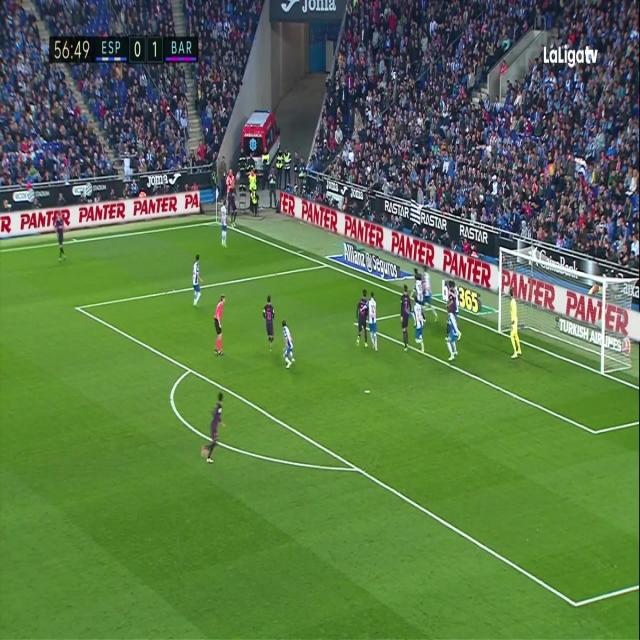Goalkeeper: (506, 290, 526, 360)
Player: (197, 389, 229, 466), (261, 294, 278, 352), (399, 284, 413, 354), (410, 298, 426, 356), (422, 266, 438, 324), (354, 288, 368, 350), (444, 308, 460, 362), (189, 256, 205, 307), (369, 292, 381, 354), (282, 318, 294, 375), (54, 211, 66, 267), (220, 200, 230, 250)
Referee: (212, 298, 226, 360)
